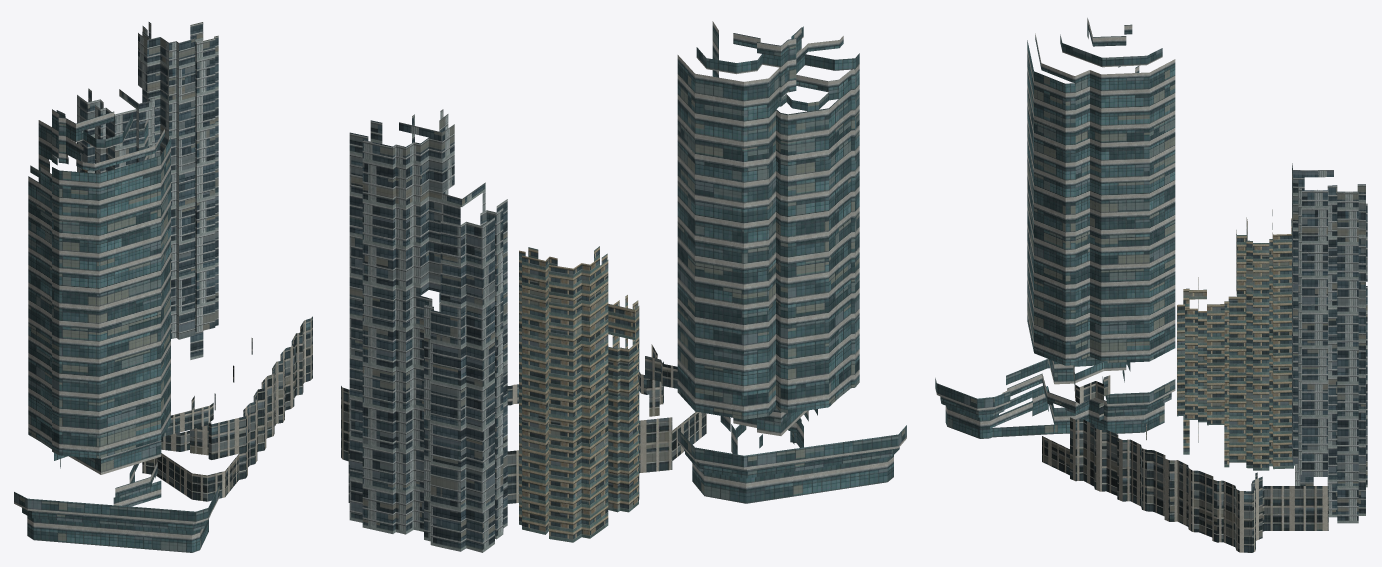
3 views of the same model, side by side, from view 1: azimuth 30°, elevation 25°; view 2: azimuth 150°, elevation 25°; view 3: azimuth 270°, elevation 25° (orthographic). The views are drawn at different scales.
Visible parts, largest first — view 1: SilverRibbonGlazing, GalleryScreens, LimestonePiers; view 2: SilverRibbonGlazing, GalleryScreens, BalconyBays, LimestonePiers; view 3: SilverRibbonGlazing, GalleryScreens, BalconyBays, LimestonePiers.
Part boxes in pixels (box(x1,y1,x2,y2)): SilverRibbonGlazing: box(14, 109, 219, 552); GalleryScreens: box(77, 22, 218, 359); LimestonePiers: box(142, 316, 312, 501); SilverRibbonGlazing: box(677, 21, 906, 503); GalleryScreens: box(349, 109, 507, 552); BalconyBays: box(519, 246, 639, 542); LimestonePiers: box(341, 344, 706, 503); SilverRibbonGlazing: box(935, 18, 1175, 438); GalleryScreens: box(1292, 163, 1367, 523); BalconyBays: box(1177, 209, 1294, 470); LimestonePiers: box(1042, 365, 1328, 552).
Size of the model in its own units: 169 by 162 by 165.
Materials: 4 (4 with a texture image).
